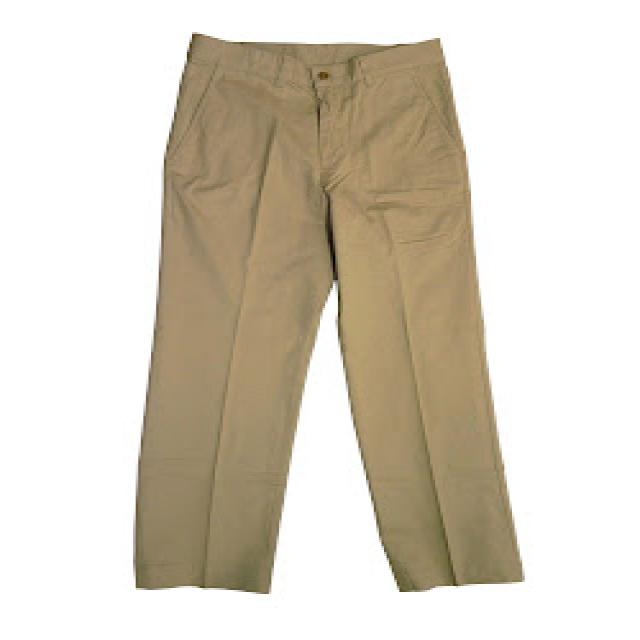long-pants: (136, 26, 532, 593)
